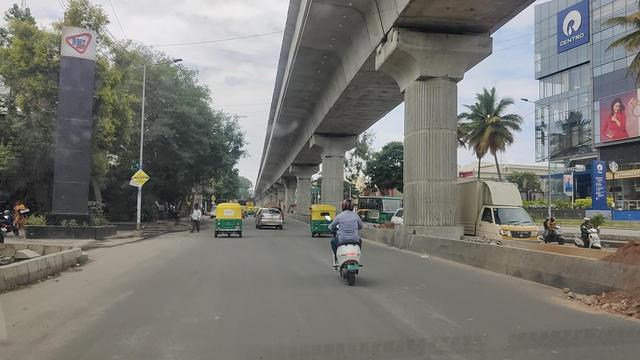LMV: (329, 195, 368, 287), (213, 202, 243, 239)
